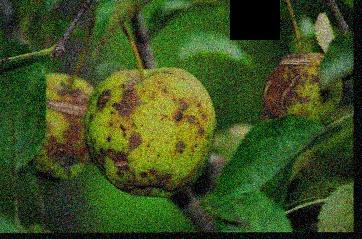rotten apple: (85, 66, 221, 200), (16, 68, 94, 183), (257, 51, 349, 130)
